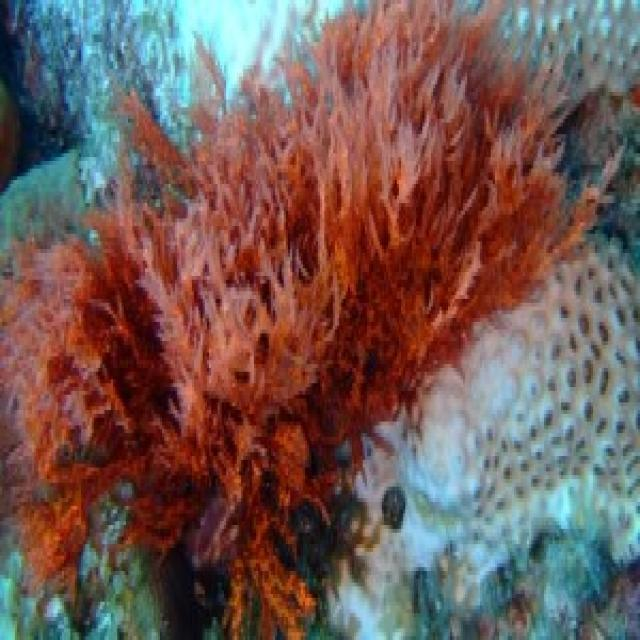Bleached: (330, 238, 640, 640), (1, 2, 338, 247), (6, 490, 167, 640), (494, 1, 639, 97)
Healthy: (1, 1, 640, 640)
